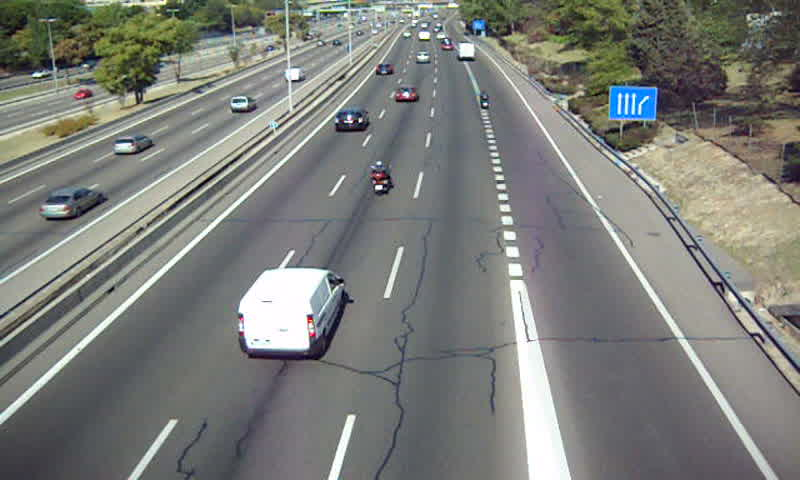car: (331, 108, 369, 133), (394, 86, 418, 102), (374, 62, 394, 76), (414, 50, 430, 64)
motorcycle: (368, 159, 391, 196), (479, 90, 489, 111)
van: (237, 268, 345, 361), (458, 42, 476, 61)
